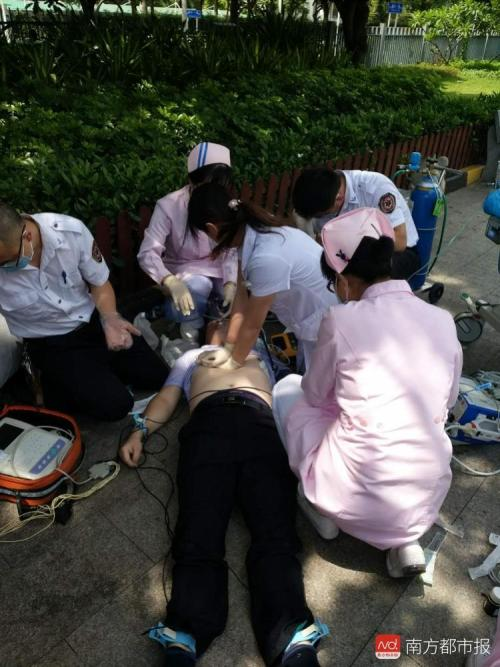fall: (115, 307, 341, 664)
